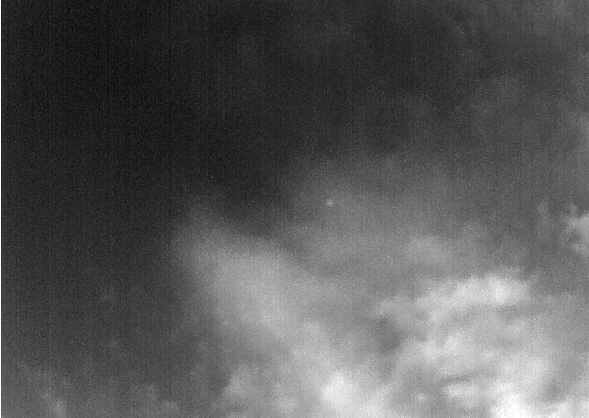dim target: (324, 198, 334, 207)
